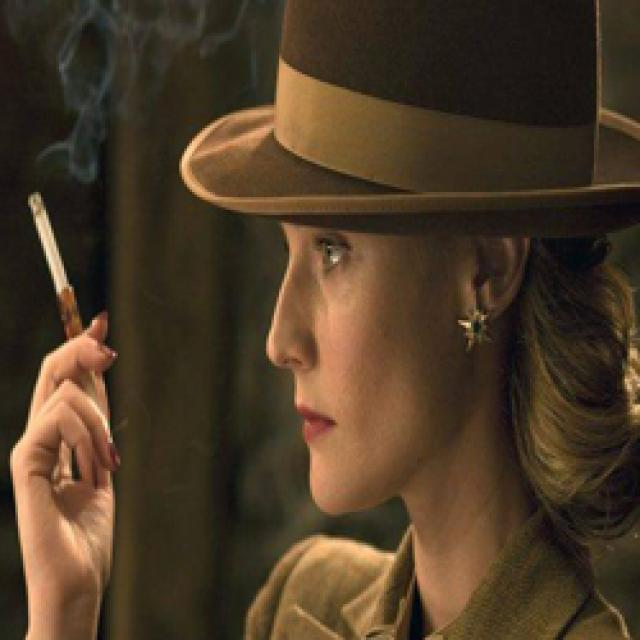Smooking: (16, 177, 94, 330)
